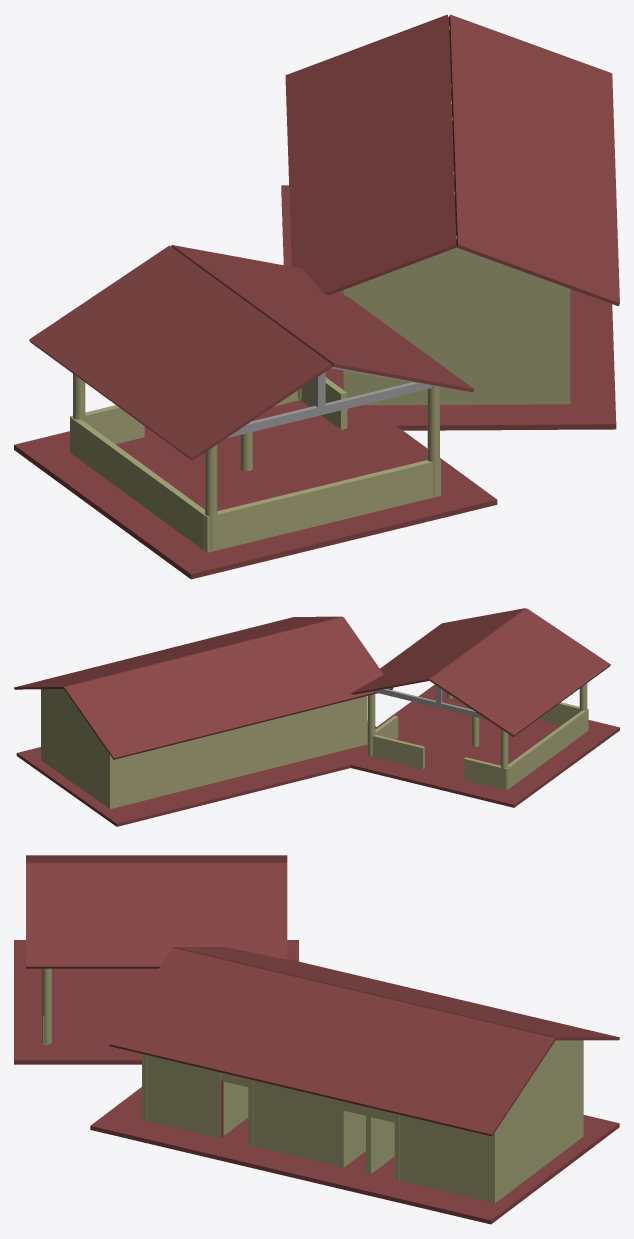
The model's file is poolbuilding.fbx.
The picture shows the model from 3 angles, top to bottom: view 1: azimuth 30°, elevation 25°; view 2: azimuth 150°, elevation 25°; view 3: azimuth 270°, elevation 25°; orthographic projection. The views are drawn at different scales.
Parts seen in each view (by area): view 1: pCube28, pCube1, pCube15, pCube2, pCube5, pCube14, pCube3, pCylinder1, pCylinder2, pCube6; view 2: pCube28, pCube1, pCube15, pCube5, pCube4, pCube3, pCube12, pCube2, pCylinder4, pCube6, pCylinder3; view 3: pCube28, pCube1, pCube15, pCylinder1.
Part boxes in pixels (bbox=[...]): pCube28: bbox=[281, 14, 619, 430]; pCube1: bbox=[29, 245, 474, 460]; pCube15: bbox=[14, 400, 497, 579]; pCube2: bbox=[204, 460, 440, 552]; pCube5: bbox=[71, 417, 204, 550]; pCube14: bbox=[227, 367, 432, 437]; pCube3: bbox=[70, 405, 144, 452]; pCylinder1: bbox=[427, 385, 439, 496]; pCylinder2: bbox=[205, 444, 217, 550]; pCube6: bbox=[300, 377, 347, 429]; pCube28: bbox=[14, 616, 393, 826]; pCube1: bbox=[351, 608, 610, 736]; pCube15: bbox=[331, 684, 619, 807]; pCube5: bbox=[507, 710, 587, 789]; pCube4: bbox=[372, 734, 424, 769]; pCube3: bbox=[464, 757, 507, 790]; pCube12: bbox=[372, 685, 486, 719]; pCube2: bbox=[451, 697, 588, 730]; pCylinder4: bbox=[368, 691, 375, 756]; pCube6: bbox=[368, 715, 398, 757]; pCylinder3: bbox=[501, 729, 508, 788]; pCube28: bbox=[90, 947, 619, 1224]; pCube1: bbox=[26, 855, 287, 968]; pCube15: bbox=[14, 940, 298, 1064]; pCylinder1: bbox=[42, 968, 51, 1044].
Size of the model in its own units: 46.24 by 10.72 by 41.98.
